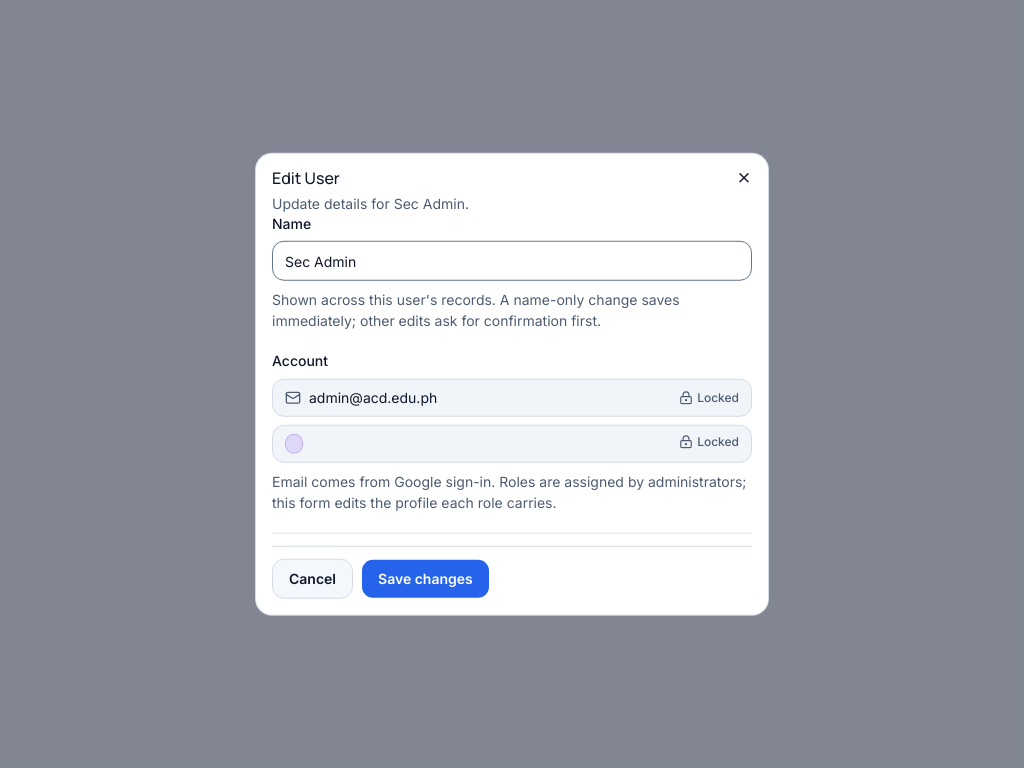
Test case: EditUserDialog › blocks submission and shows error if trying to edit own account
Expected: the field showing "Sec Admin" is shown, [272,241,752,281]
Click the button "Save changes" at (425, 578), box [361,558,490,598]
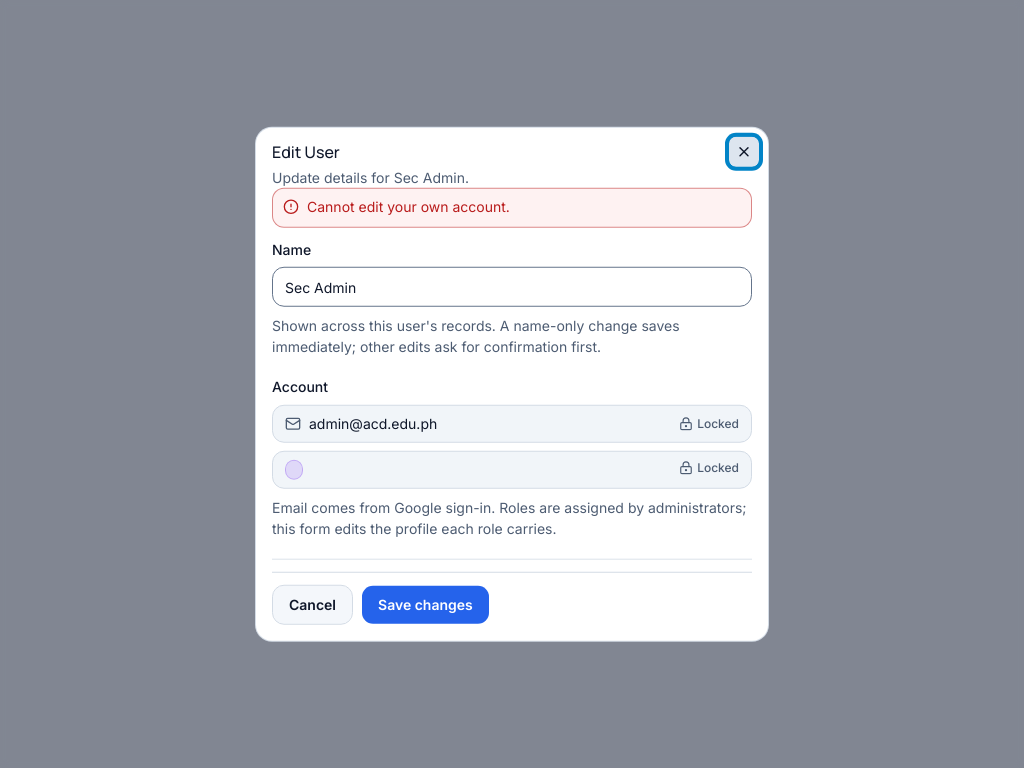
Now the message shows "Cannot edit your own account", box [307,198,510,215]
